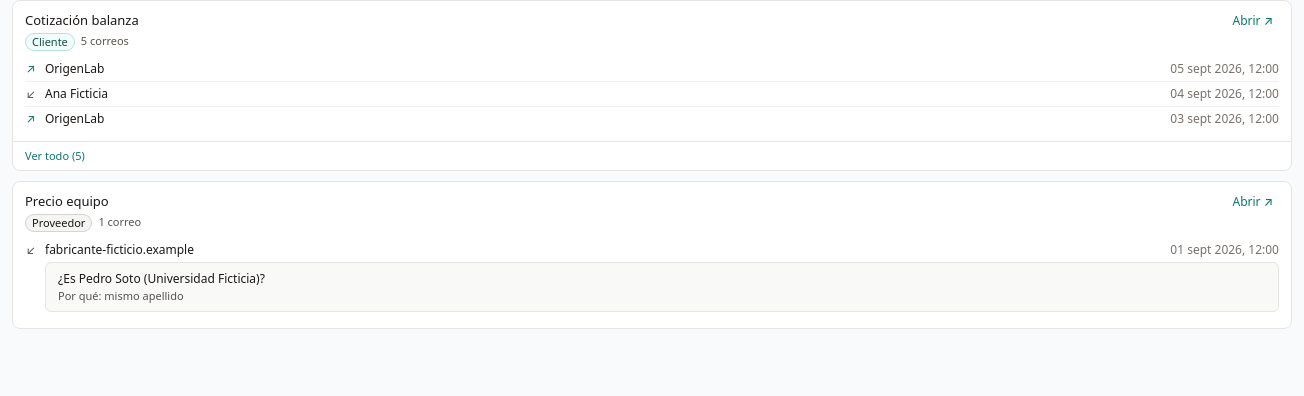
Test case: Correos del caso as cadenas › shows each cadena with its party, count and newest three emails, and opens the rest on request
The image size is (1304, 396).
Expected: the number of elements with test id "case-thread" is 2, [12,0,1292,171]; [12,181,1292,329]
Expected: the element with test id "case-thread" shows "Cotización balanza", [25,11,139,29]
Click the button "Ver todo (5)". click: (55, 155)
box: [13,140,1291,170]
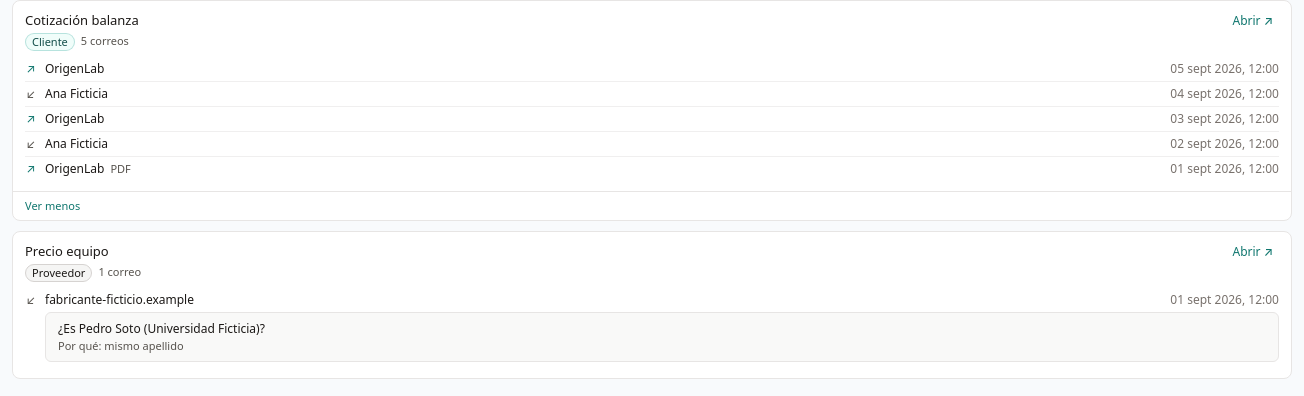
Expected: the element with test id "case-thread" shows "Proveedor", [32,264,85,280]
Expected: the text "PDF" is shown, [110,160,131,176]
